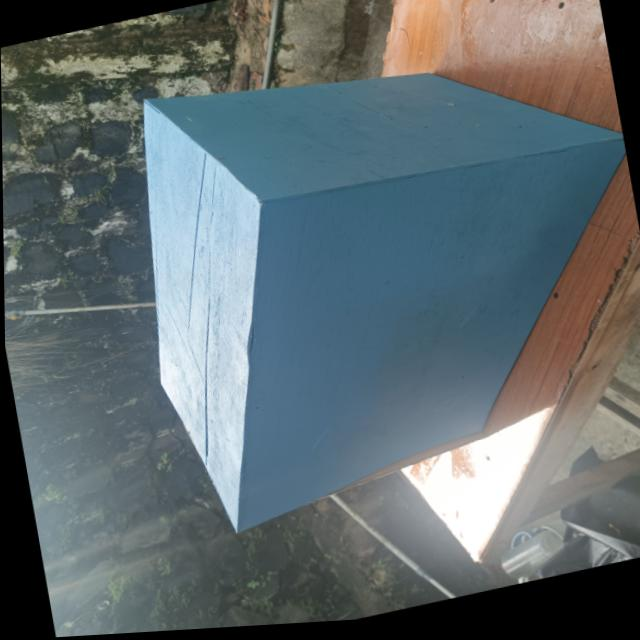blue_box: (65, 0, 640, 569)
